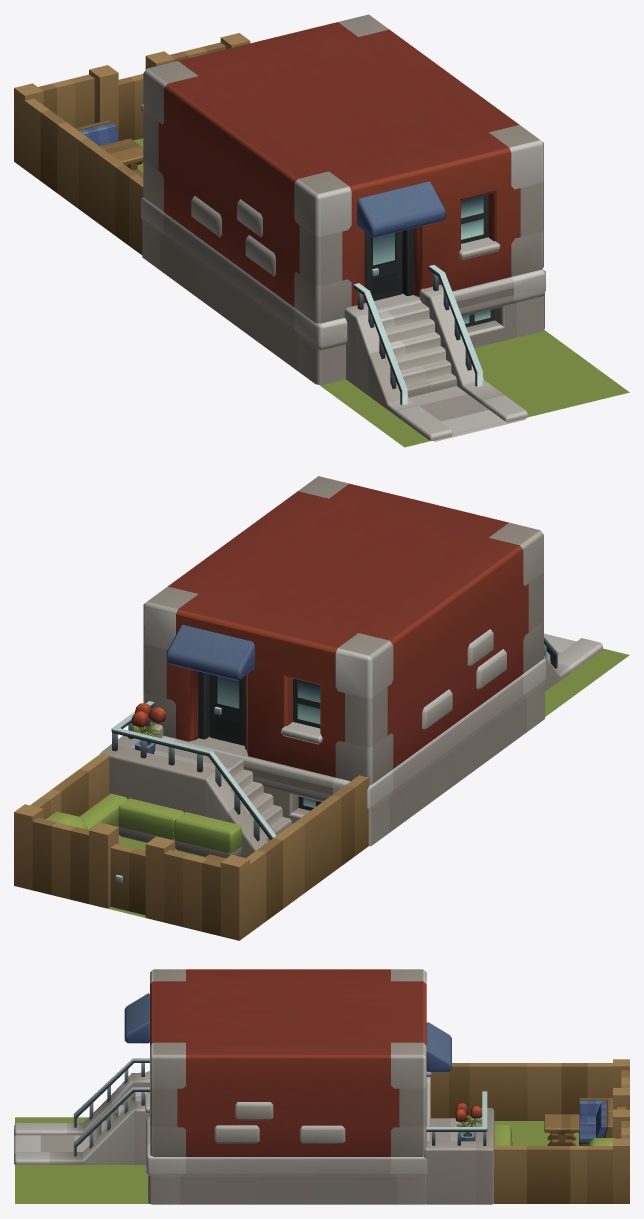
File: appartment_type1_x3_ground_red.fbx
3 views of the same model, one above another, from view 1: azimuth 30°, elevation 25°; view 2: azimuth 150°, elevation 25°; view 3: azimuth 270°, elevation 25° (orthographic). The views are drawn at different scales.
Parts seen in each view (by area): view 1: appartment_type1_x3_ground_red, door_front_appartment_type1_x3_ground, door_garden_appartment_type1_x3_ground; view 2: appartment_type1_x3_ground_red, door_back_appartment_type1_x3_ground, door_garden_appartment_type1_x3_ground; view 3: appartment_type1_x3_ground_red.
Part boxes in pixels (x1,y1,x2,y2): appartment_type1_x3_ground_red: (14, 14, 629, 447); door_front_appartment_type1_x3_ground: (367, 231, 402, 300); door_garden_appartment_type1_x3_ground: (118, 74, 143, 140); appartment_type1_x3_ground_red: (14, 476, 629, 940); door_back_appartment_type1_x3_ground: (209, 674, 244, 745); door_garden_appartment_type1_x3_ground: (110, 844, 145, 915); appartment_type1_x3_ground_red: (14, 969, 629, 1204).
Bounding box in the file's own units: 628 × 487 × 1803.
